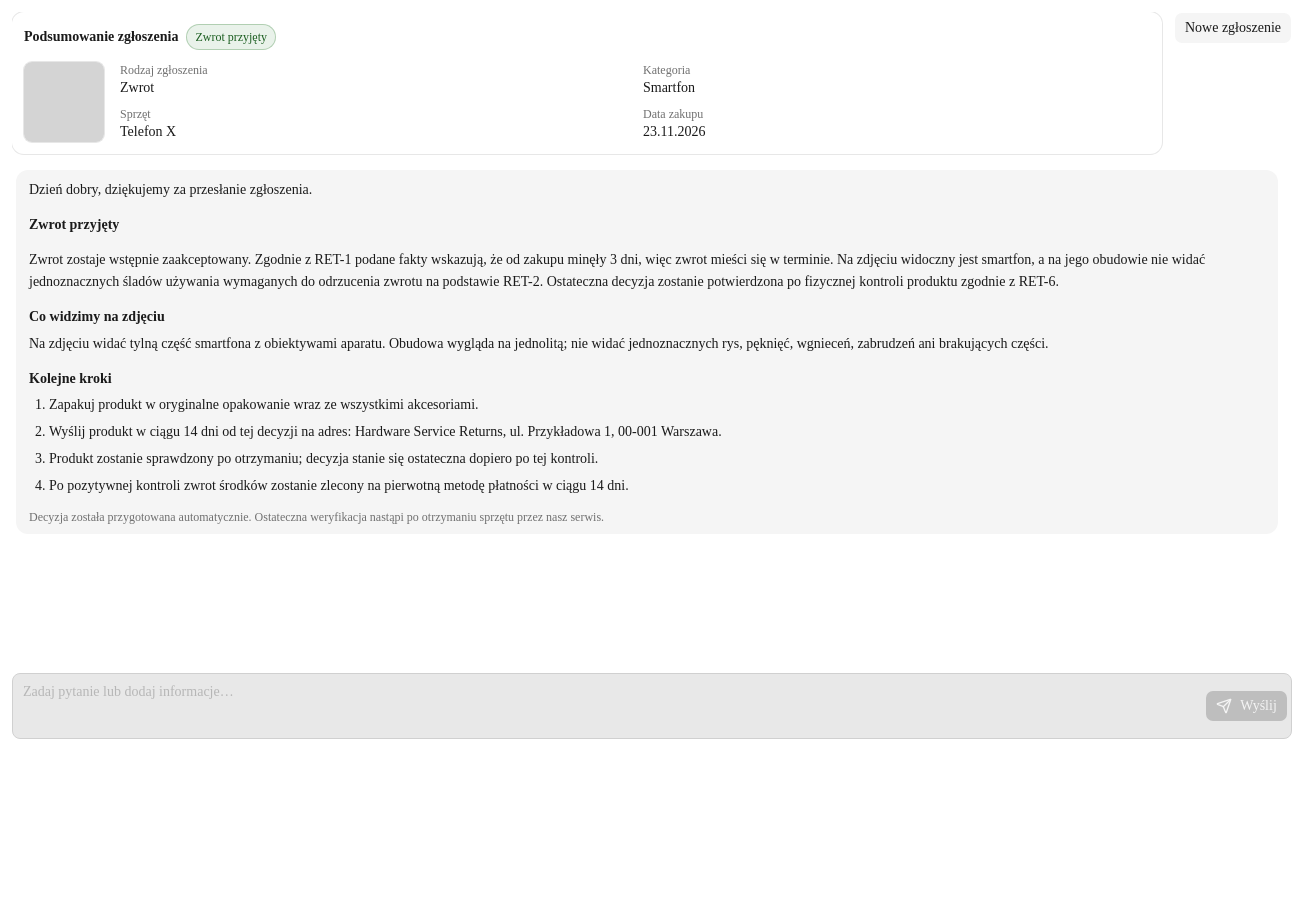
Test: ChatScreen with real API captures › two decision changes in a row (AC-33): the second request carries the first change
Later steps or results of the test are not shown.
Type "Telefon mi spadł." into the text box with placeholder "Zadaj pytanie lub dodaj informacje…" at (609, 706), box [13,674,1205,738]
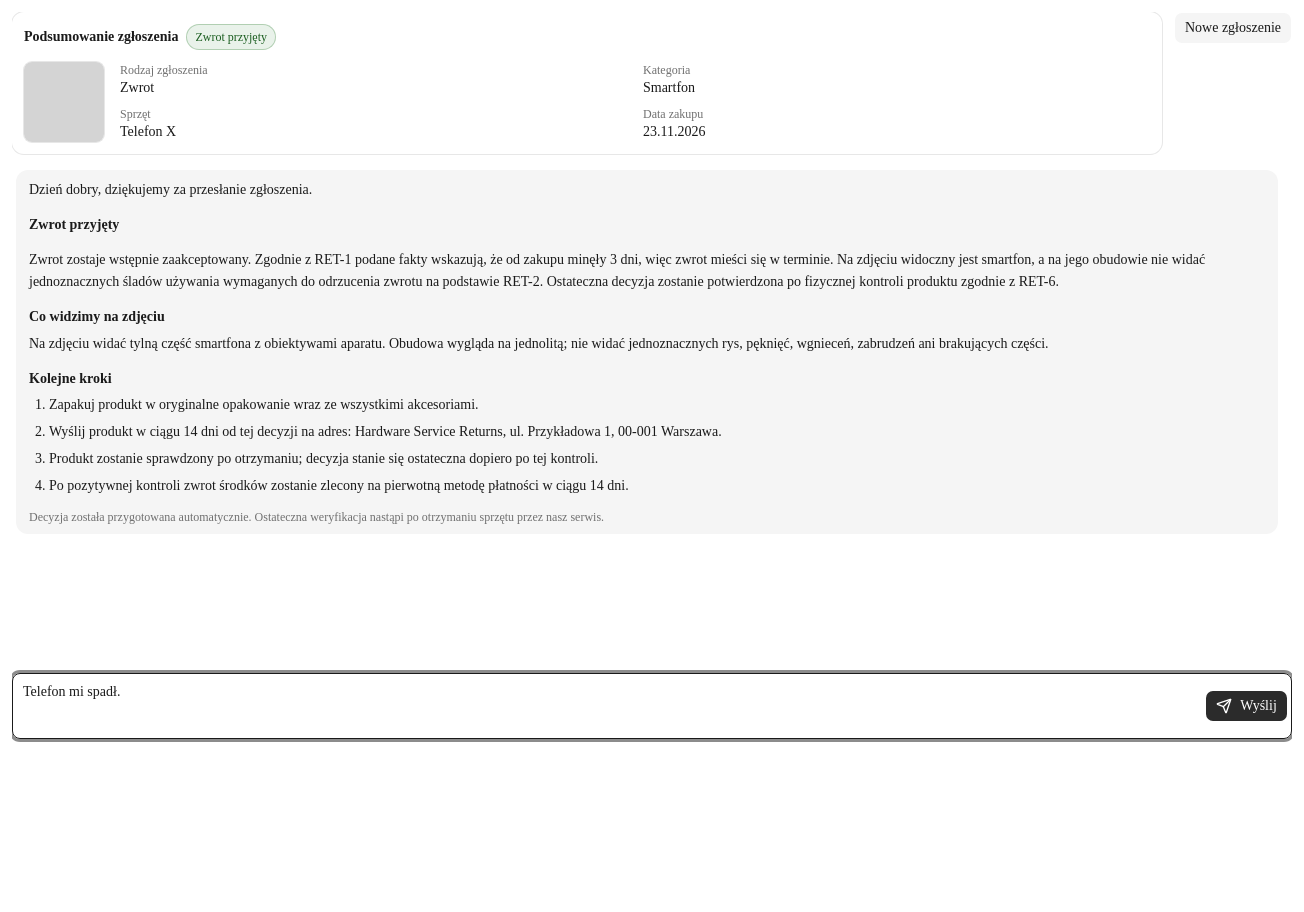
Click the button "Wyślij" at (1247, 706), box [1205,690,1288,722]
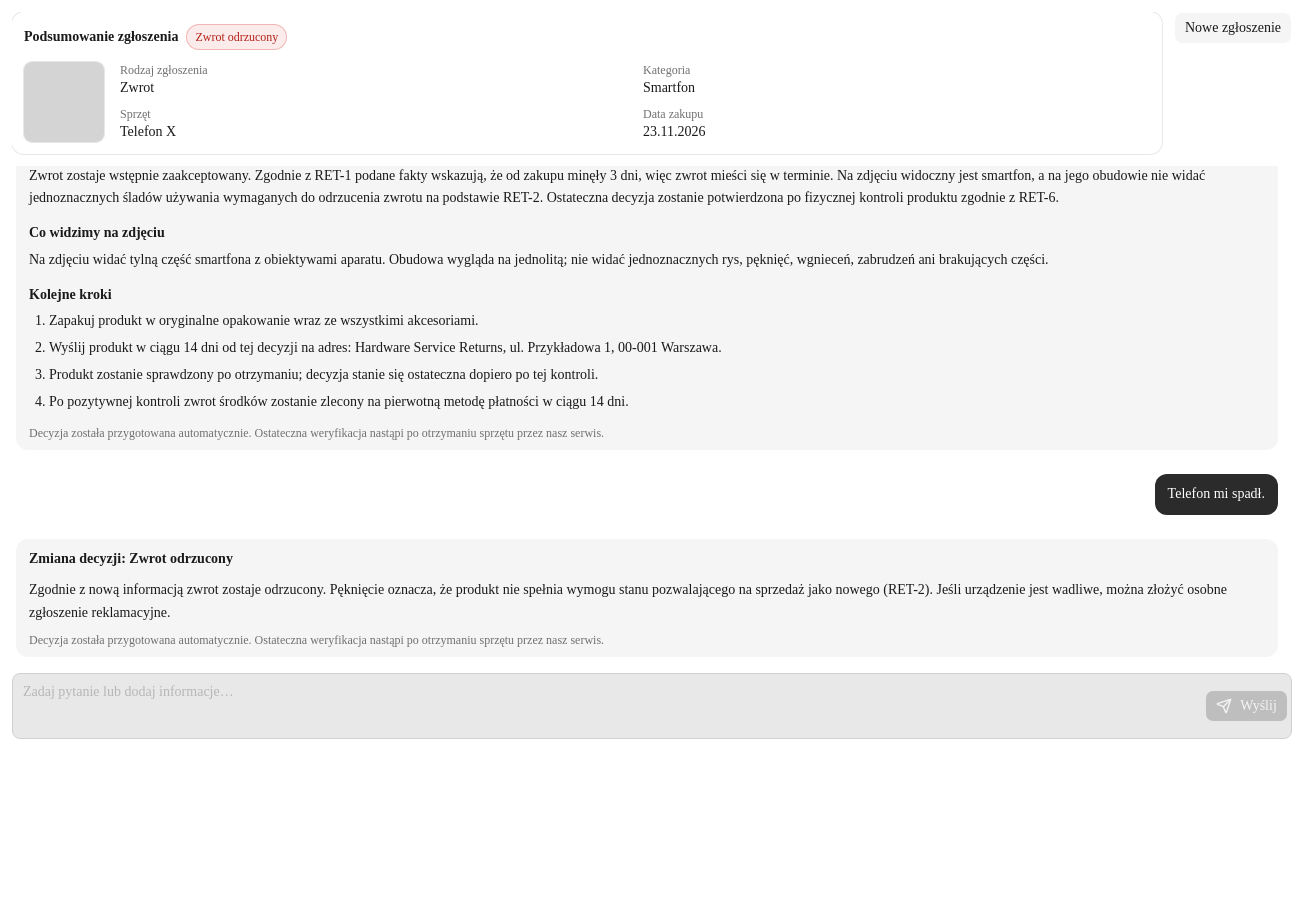
Check: the text "Zmiana decyzji: Zwrot odrzucony" is shown, box [29,551,233,566]
